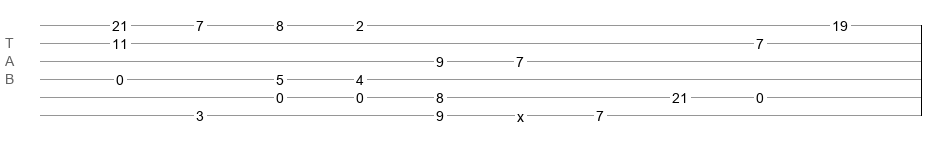0: (116, 72, 124, 82), (276, 90, 284, 100), (356, 90, 364, 100), (756, 90, 764, 100)
11: (112, 36, 128, 46)
19: (832, 18, 848, 28)
2: (356, 18, 364, 28)
21: (112, 18, 128, 28), (672, 90, 688, 100)
3: (196, 108, 204, 118)
4: (356, 72, 364, 82)
5: (276, 72, 284, 82)
7: (196, 18, 204, 28), (516, 54, 524, 64), (596, 108, 604, 118), (756, 36, 764, 46)
8: (276, 18, 284, 28), (436, 90, 444, 100)
9: (436, 54, 444, 64), (436, 108, 444, 118)
x: (517, 109, 524, 117)
